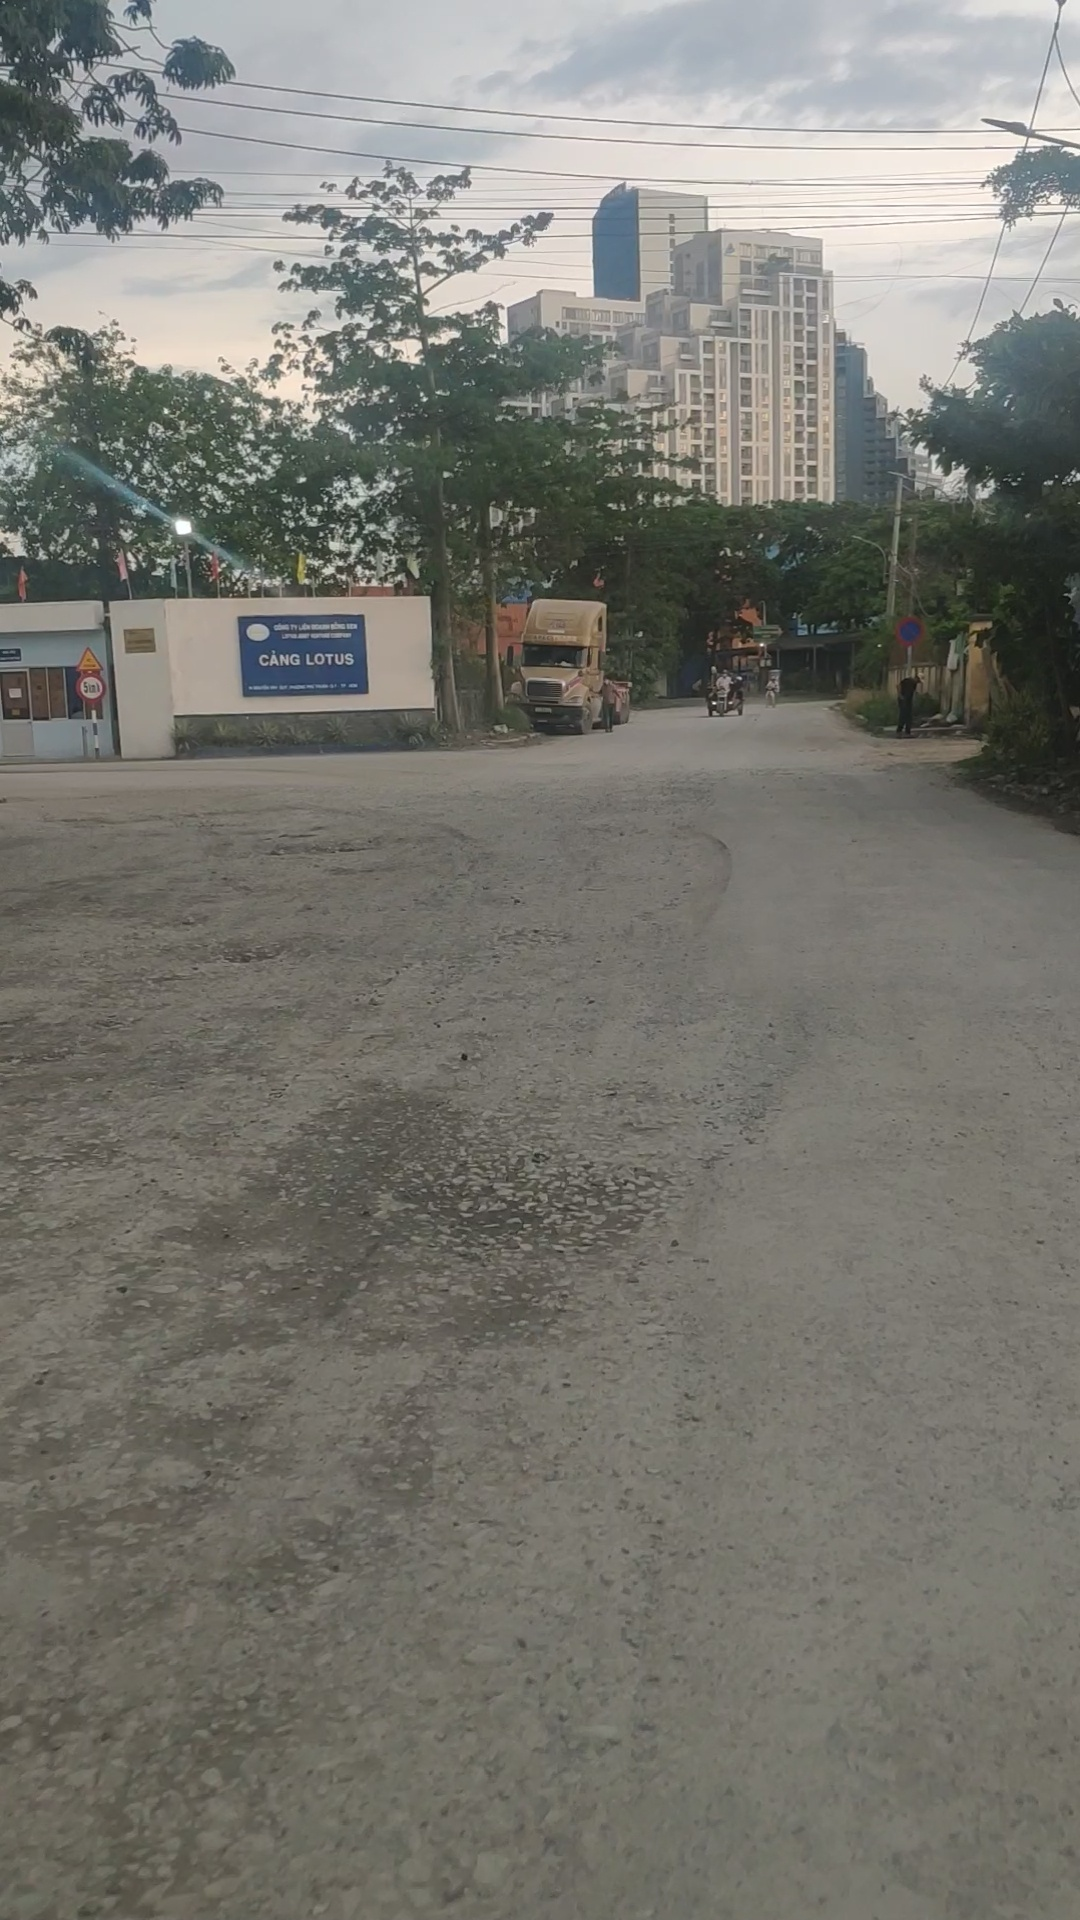hole: (349, 1101, 680, 1307), (199, 928, 318, 976), (258, 829, 435, 861), (481, 918, 582, 953)
